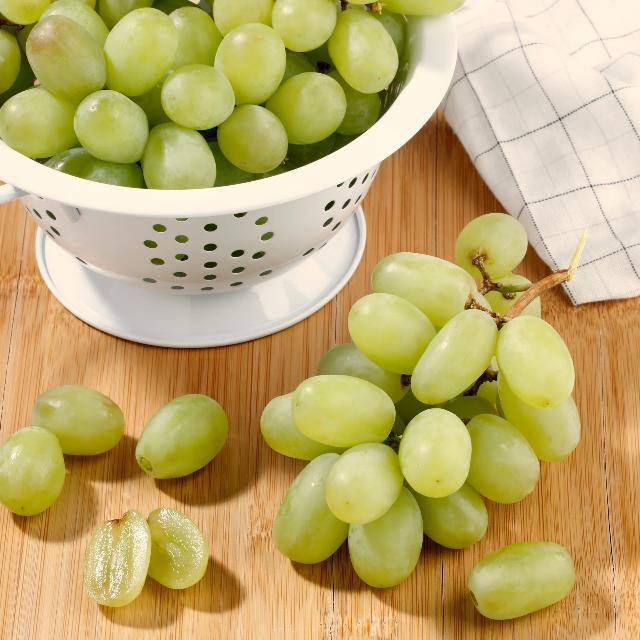Grapes: (270, 229, 582, 583), (0, 0, 398, 188), (138, 392, 230, 478), (469, 545, 579, 615), (34, 382, 126, 454), (0, 426, 60, 514)
